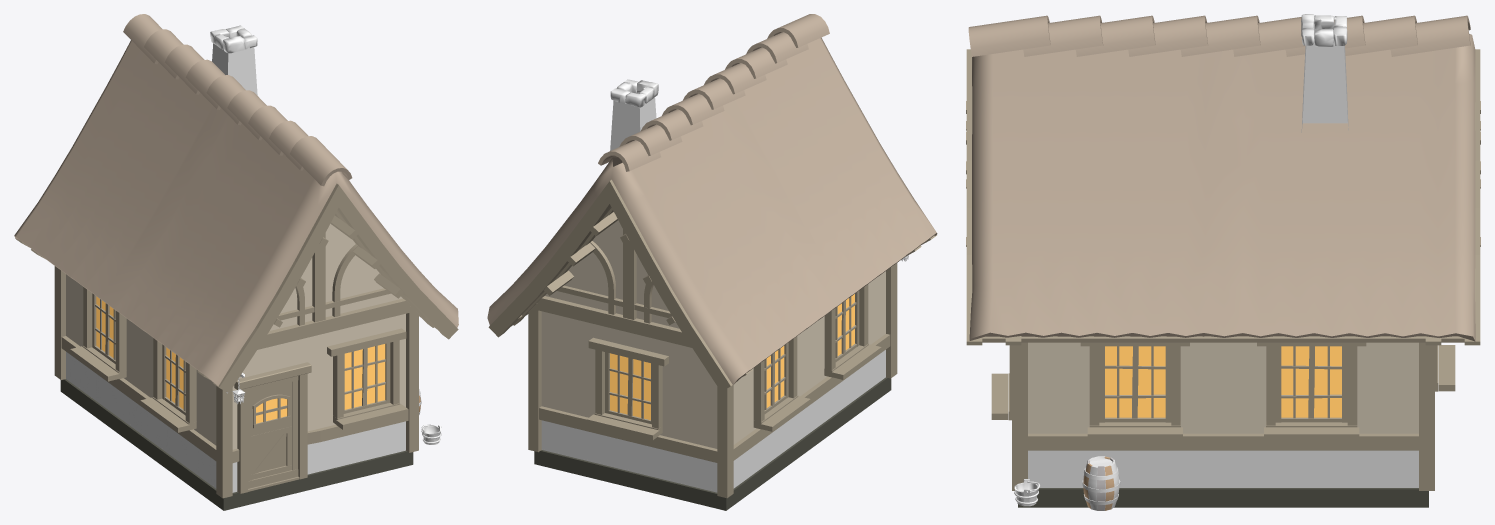
File: eastbrook_salter.glb
3 views of the same model, side by side, from view 1: azimuth 30°, elevation 25°; view 2: azimuth 150°, elevation 25°; view 3: azimuth 270°, elevation 25° (orthographic). The views are drawn at different scales.
Parts seen in each view (by area): view 1: village/MI_RoundTiles, village/MI_WoodTrim, village/MI_Plaster, village/MI_UnevenBrick, object 7, village/MI_WindowGlass, village/MI_RockTrim, village/MI_Brick; view 2: village/MI_RoundTiles, village/MI_WoodTrim, village/MI_Plaster, village/MI_UnevenBrick, object 7, village/MI_WindowGlass, village/MI_Brick, village/MI_RockTrim; view 3: village/MI_RoundTiles, village/MI_WoodTrim, village/MI_Plaster, village/MI_UnevenBrick, object 7, village/MI_WindowGlass, village/MI_Brick, village/MI_RockTrim, props/MI_Trim_Furniture.
Part boxes in pixels (x1,y1,x2,y2): village/MI_RoundTiles: [14, 14, 458, 386]; village/MI_WoodTrim: [15, 183, 458, 498]; village/MI_Plaster: [66, 223, 405, 449]; village/MI_UnevenBrick: [66, 352, 405, 488]; object 7: [60, 379, 413, 510]; village/MI_WindowGlass: [96, 296, 385, 423]; village/MI_RockTrim: [210, 25, 317, 492]; village/MI_Brick: [212, 43, 257, 95]; village/MI_RoundTiles: [487, 14, 937, 384]; village/MI_WoodTrim: [488, 179, 936, 498]; village/MI_Plaster: [541, 220, 885, 448]; village/MI_UnevenBrick: [541, 350, 885, 492]; object 7: [534, 377, 891, 510]; village/MI_WindowGlass: [610, 294, 854, 419]; village/MI_Brick: [610, 92, 656, 150]; village/MI_RockTrim: [610, 79, 658, 107]; village/MI_RoundTiles: [968, 15, 1475, 341]; village/MI_WoodTrim: [966, 49, 1480, 490]; village/MI_Plaster: [1028, 342, 1418, 433]; village/MI_UnevenBrick: [1028, 450, 1418, 487]; object 7: [1018, 488, 1428, 507]; village/MI_WindowGlass: [1105, 346, 1341, 417]; village/MI_Brick: [1301, 23, 1348, 132]; village/MI_RockTrim: [1301, 14, 1347, 46]; props/MI_Trim_Furniture: [1083, 456, 1119, 510].
Size of the model in its own units: 5.64 by 7.31 by 7.59.
